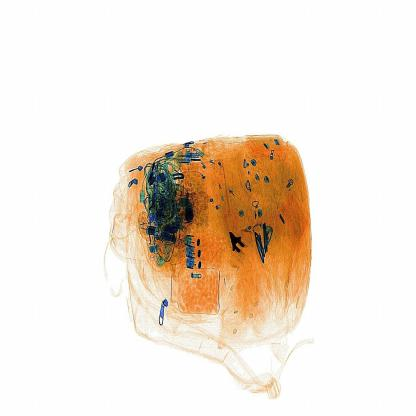gun: (219, 220, 258, 276)
